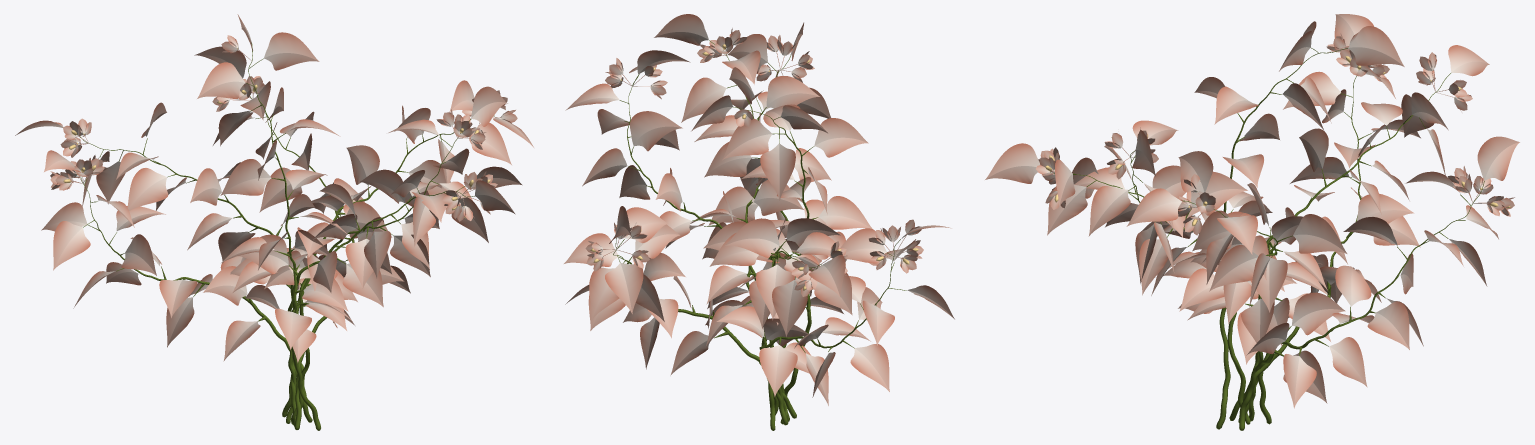
The model's file is begonia.fbx.
3 views of the same model, side by side, from view 1: azimuth 30°, elevation 25°; view 2: azimuth 150°, elevation 25°; view 3: azimuth 270°, elevation 25° (orthographic). The views are drawn at different scales.
Visible parts, largest first — view 1: Object_7, Object_8, Object_3, Object_4; view 2: Object_8, Object_7, Object_4, Object_3; view 3: Object_7, Object_8, Object_3, Object_4.
Boxes of the visible parts, x1,y1,x2,y2 form: Object_7: (41,46,533,349); Object_8: (15,14,505,362); Object_3: (77,42,494,430); Object_4: (50,35,517,221); Object_8: (565,50,954,405); Object_7: (564,14,951,397); Object_4: (585,28,923,296); Object_3: (613,40,906,430); Object_7: (985,14,1519,408); Object_8: (1072,26,1498,403); Object_3: (1050,48,1484,430); Object_4: (1036,32,1514,235).
Bounding box in the file's own units: 224 × 185 × 224.
5 materials, 3 textured.
